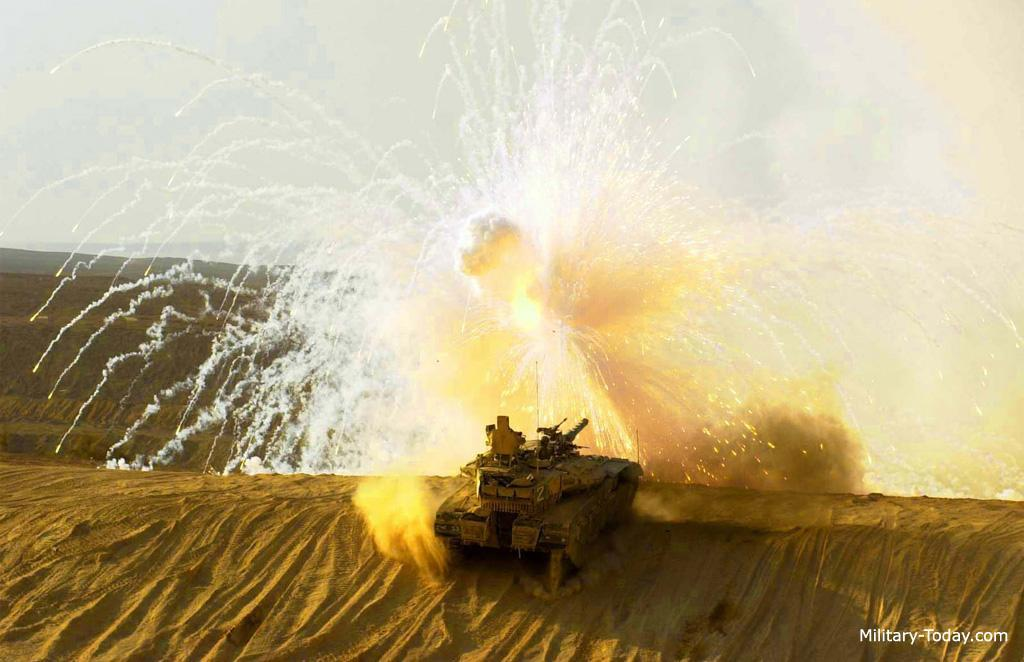tank: (432, 415, 643, 575)
